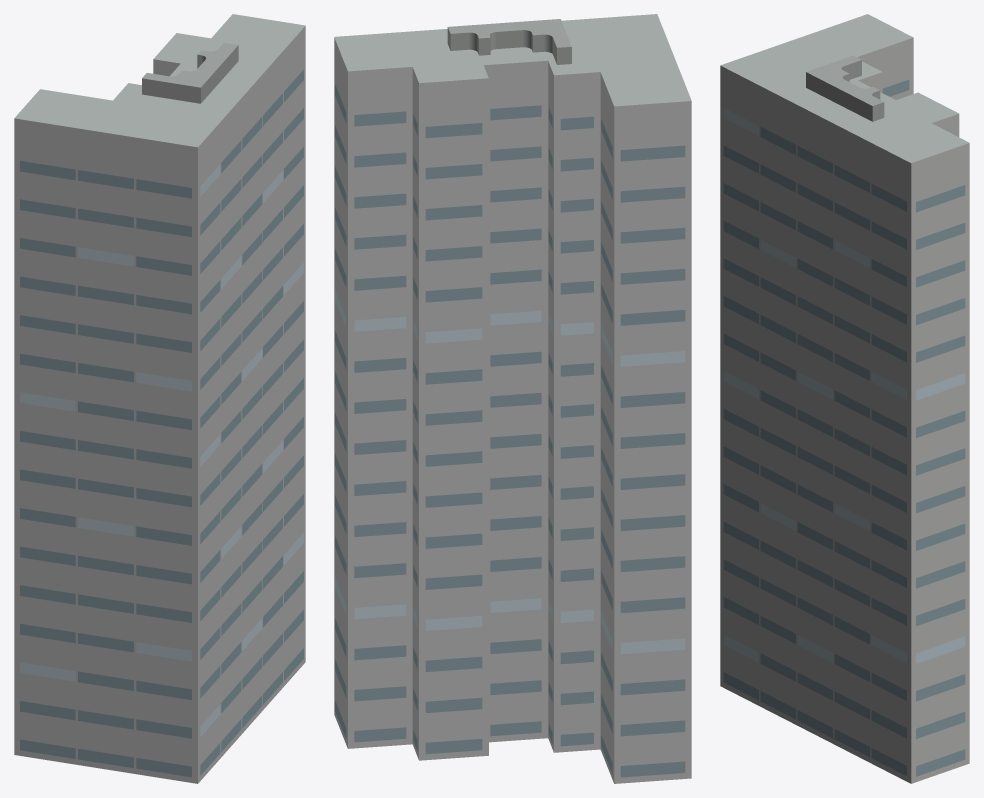
The model's file is fallback-gaepo-raemian-forest-104.glb.
3 views of the same model, side by side, from view 1: azimuth 30°, elevation 25°; view 2: azimuth 150°, elevation 25°; view 3: azimuth 270°, elevation 25° (orthographic). The views are drawn at different scales.
Parts seen in each view (by area): view 1: fallback-gaepo-raemian-forest-104; view 2: fallback-gaepo-raemian-forest-104; view 3: fallback-gaepo-raemian-forest-104.
Part boxes in pixels (<box>): fallback-gaepo-raemian-forest-104: <box>14,14,305,783</box>; fallback-gaepo-raemian-forest-104: <box>334,14,691,783</box>; fallback-gaepo-raemian-forest-104: <box>720,14,969,783</box>.
Bounding box in the file's own units: 48.8 × 97 × 34.48.
